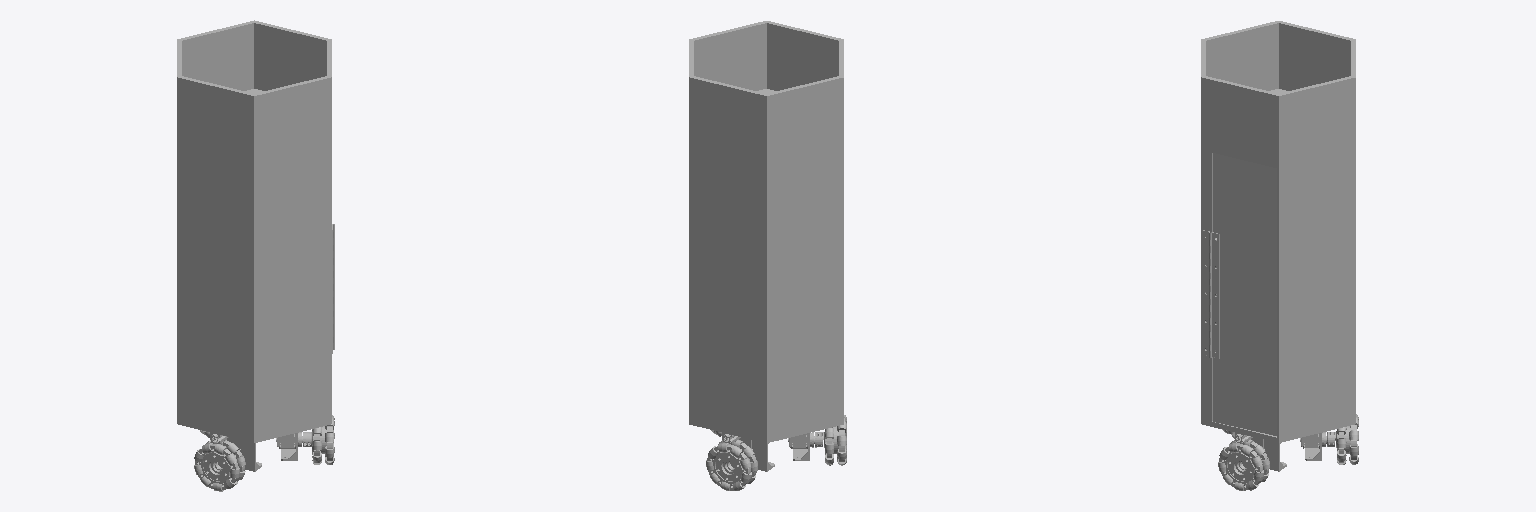
URDF robot description (cart_assembly):
<robot
  name="cart_assembly">
  <link
    name="base_link">
    <inertial>
      <origin
        xyz="0.0 0.0 0.0"
        rpy="0 0 0" />
      <mass
        value="11.6417381644856" />
      <inertia
        ixx="0.0"
        ixy="0.0"
        ixz="0.0"
        iyy="0.0"
        iyz="0.0"
        izz="0.0" />
    </inertial>
    <visual>
      <origin
        xyz="0 0 0"
        rpy="0 0 0" />
      <geometry>
        <mesh
          filename="package://cart_assembly/meshes/base_link.STL" />
      </geometry>
      <material
        name="">
        <color
          rgba="0.752941176470588 0.752941176470588 0.752941176470588 1" />
      </material>
    </visual>
    <collision>
      <origin
        xyz="0 0 0"
        rpy="0 0 0" />
      <geometry>
        <mesh
          filename="package://cart_assembly/meshes/base_link.STL" />
      </geometry>
    </collision>
  </link>
  <link
    name="wheel_1">
    <inertial>
      <origin
        xyz="-0.00012743 0.00078371 -0.012232"
        rpy="0 0 0" />
      <mass
        value="0.39461" />
      <inertia
        ixx="0.00015693"
        ixy="2.3967E-06"
        ixz="-1.4865E-07"
        iyy="0.00014378"
        iyz="5.0664E-06"
        izz="0.00015124" />
    </inertial>
    <visual>
      <origin
        xyz="0 0 0"
        rpy="0 0 0" />
      <geometry>
        <mesh
          filename="package://cart_assembly/meshes/wheel_1.STL" />
      </geometry>
      <material
        name="">
        <color
          rgba="0.75294 0.75294 0.75294 1" />
      </material>
    </visual>
    <collision>
      <origin
        xyz="0 0 0"
        rpy="0 0 0" />
      <geometry>
        <mesh
          filename="package://cart_assembly/meshes/wheel_1.STL" />
      </geometry>
    </collision>
  </link>
  <joint
    name="wheel_1_rot"
    type="revolute">
    <origin
      xyz="-0.094641 -0.054641 -0.073"
      rpy="1.5708 1.1826 2.0944" />
    <parent
      link="base_link" />
    <child
      link="wheel_1" />
    <axis
      xyz="0 0 1" />
    <limit
      effort="0"
      velocity="0" />
  </joint>
  <link
    name="wheel_2">
    <inertial>
      <origin
        xyz="-0.00012743 0.00078372 -0.027514"
        rpy="0 0 0" />
      <mass
        value="0.39461" />
      <inertia
        ixx="0.00015693"
        ixy="2.3967E-06"
        ixz="-1.4867E-07"
        iyy="0.00014378"
        iyz="5.0664E-06"
        izz="0.00015124" />
    </inertial>
    <visual>
      <origin
        xyz="0 0 0"
        rpy="0 0 0" />
      <geometry>
        <mesh
          filename="package://cart_assembly/meshes/wheel_2.STL" />
      </geometry>
      <material
        name="">
        <color
          rgba="0.75294 0.75294 0.75294 1" />
      </material>
    </visual>
    <collision>
      <origin
        xyz="0 0 0"
        rpy="0 0 0" />
      <geometry>
        <mesh
          filename="package://cart_assembly/meshes/wheel_2.STL" />
      </geometry>
    </collision>
  </link>
  <joint
    name="wheel_2_rot"
    type="revolute">
    <origin
      xyz="0 0.094 -0.073"
      rpy="1.5708 0.95051 -8.5716E-17" />
    <parent
      link="base_link" />
    <child
      link="wheel_2" />
    <axis
      xyz="0 0 1" />
    <limit
      effort="0"
      velocity="0" />
  </joint>
  <link
    name="wheel_3">
    <inertial>
      <origin
        xyz="-0.00012743 0.00078371 -0.092518"
        rpy="0 0 0" />
      <mass
        value="0.39461" />
      <inertia
        ixx="0.00015693"
        ixy="2.3967E-06"
        ixz="-1.4867E-07"
        iyy="0.00014378"
        iyz="5.0664E-06"
        izz="0.00015124" />
    </inertial>
    <visual>
      <origin
        xyz="0 0 0"
        rpy="0 0 0" />
      <geometry>
        <mesh
          filename="package://cart_assembly/meshes/wheel_3.STL" />
      </geometry>
      <material
        name="">
        <color
          rgba="0.75294 0.75294 0.75294 1" />
      </material>
    </visual>
    <collision>
      <origin
        xyz="0 0 0"
        rpy="0 0 0" />
      <geometry>
        <mesh
          filename="package://cart_assembly/meshes/wheel_3.STL" />
      </geometry>
    </collision>
  </link>
  <joint
    name="wheel_3_rot"
    type="revolute">
    <origin
      xyz="0.025111 -0.014498 -0.073"
      rpy="-1.5708 0.70754 1.0472" />
    <parent
      link="base_link" />
    <child
      link="wheel_3" />
    <axis
      xyz="0 0 -1" />
    <limit
      effort="0"
      velocity="0" />
  </joint>
  <transmission name="tran1">
    <type>transmission_interface/SimpleTransmission</type>
    <joint name="wheel_1_rot">
      <hardwareInterface>hardware_interface/PositionJointInterface</hardwareInterface>
    </joint>
    <actuator name="motor_1">
      <hardwareInterface>hardware_interface/PositionJointInterface</hardwareInterface>
      <mechanicalReduction>1</mechanicalReduction>
    </actuator>
  </transmission>

  <transmission name="tran2">
    <type>transmission_interface/SimpleTransmission</type>
    <joint name="wheel_2_rot">
      <hardwareInterface>hardware_interface/PositionJointInterface</hardwareInterface>
    </joint>
    <actuator name="motor_2">
      <hardwareInterface>hardware_interface/PositionJointInterface</hardwareInterface>
      <mechanicalReduction>1</mechanicalReduction>
    </actuator>
  </transmission>

  <transmission name="tran3">
    <type>transmission_interface/SimpleTransmission</type>
    <joint name="wheel_3_rot">
      <hardwareInterface>hardware_interface/PositionJointInterface</hardwareInterface>
    </joint>
    <actuator name="motor_3">
      <hardwareInterface>hardware_interface/PositionJointInterface</hardwareInterface>
      <mechanicalReduction>1</mechanicalReduction>
    </actuator>
  </transmission>

  <gazebo>
  <plugin name="gazebo_ros_control" filename="libgazebo_ros_control.so">
    <robotNamespace>/cart_assembly</robotNamespace>
  </plugin>
</gazebo>
</robot>

--- Facts derived from the render (not from the file) ---
The picture shows the robot from 3 angles, left to right: view 1: azimuth 30°, elevation 25°; view 2: azimuth 150°, elevation 25°; view 3: azimuth 270°, elevation 25°; orthographic projection.
Robot: cart_assembly — 4 links, 3 joints (3 revolute); root link base_link; default pose: every joint at zero.
Visible links, largest first — view 1: base_link, wheel_1, wheel_3; view 2: base_link, wheel_2, wheel_1; view 3: base_link, wheel_3, wheel_2.
Boxes of the visible links, bbox=[...] form: base_link: bbox=[177, 20, 334, 471]; wheel_1: bbox=[194, 440, 245, 491]; wheel_3: bbox=[303, 415, 334, 464]; base_link: bbox=[689, 21, 843, 471]; wheel_2: bbox=[706, 440, 757, 490]; wheel_1: bbox=[815, 415, 846, 465]; base_link: bbox=[1201, 21, 1355, 471]; wheel_3: bbox=[1218, 439, 1269, 490]; wheel_2: bbox=[1327, 414, 1358, 464].
Size in the robot's own frame: 0.3464 by 0.3052 by 0.863 metres.
Meshes: 4 distinct files referenced, 4 mesh visuals loaded (4 binary STL).